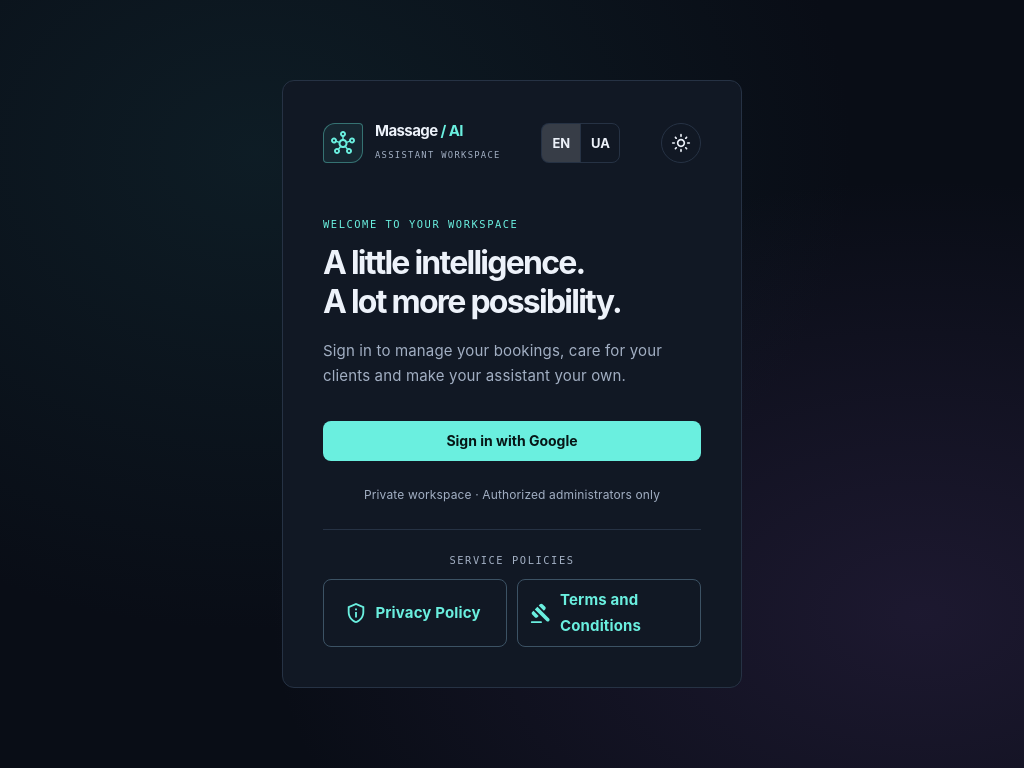
Scenario: admin experience › reports login failure and allows retry
Click the button "Sign in with Google" at (512, 441), box x1=323 y1=421 x2=701 y2=461
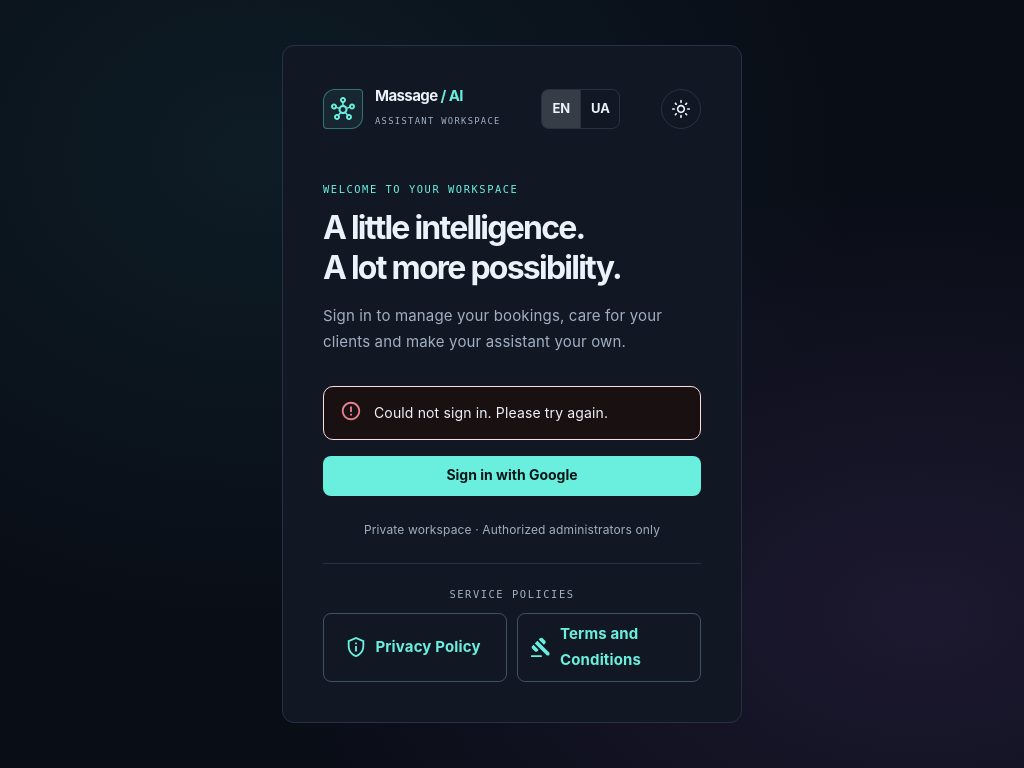
Check: the button "Sign in with Google" is enabled, box x1=323 y1=456 x2=701 y2=496
Check: the message "Could not sign in. Please try again." is shown, box x1=323 y1=386 x2=701 y2=440
